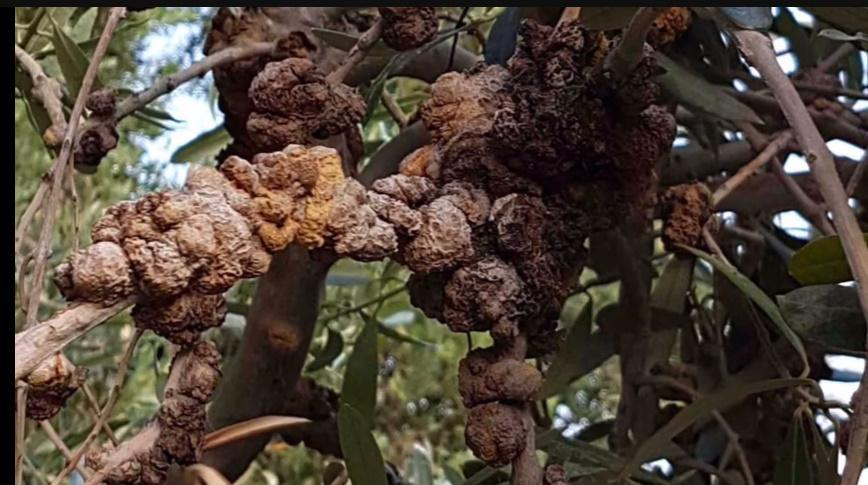Tuberculosis: (45, 142, 585, 350), (430, 25, 588, 370), (601, 48, 719, 260), (233, 34, 376, 144), (443, 356, 546, 463), (136, 366, 226, 485), (30, 84, 126, 164)
